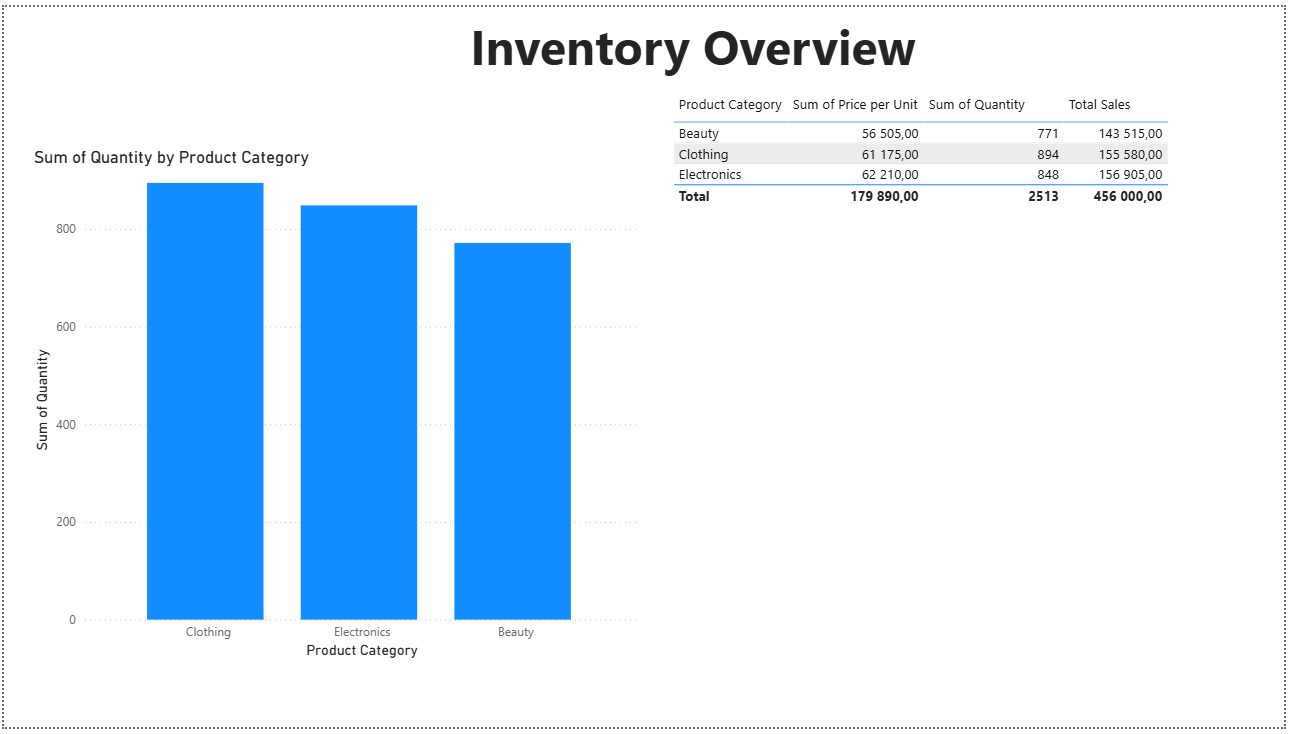

Layout of this report page (visuals, bound fields, positions):
{"tool":"powerbi","page":{"name":"Page 3","canvas":[1280,720],"ordinal":2},"visuals":[{"type":"clusteredColumnChart","fields":{"Category":["retail_sales_dataset.Product Category"],"Y":["Sum(retail_sales_dataset.Quantity)"]},"box":[25,140,615,516.7],"z":0},{"type":"tableEx","fields":{"Values":["retail_sales_dataset.Product Category","Sum(retail_sales_dataset.Price per Unit)","Sum(retail_sales_dataset.Quantity)","retail_sales_dataset.Total Sales"]},"box":[663.3,81.7,541.7,441.7],"z":1000},{"type":"textbox","box":[461.7,1.7,503.3,80],"z":2000}]}

Visuals, with their boxes in screenshot pixels (x1, y1, x2, y2), scaled from the page's 1280x720 canvas onto the 1289x734 screenshot:
clusteredColumnChart - retail_sales_dataset.Product Category x Sum(retail_sales_dataset.Quantity): <box>25,143,644,669</box>
tableEx - retail_sales_dataset.Product Category x Sum(retail_sales_dataset.Price per Unit): <box>668,83,1213,534</box>
textbox: <box>465,2,972,83</box>
